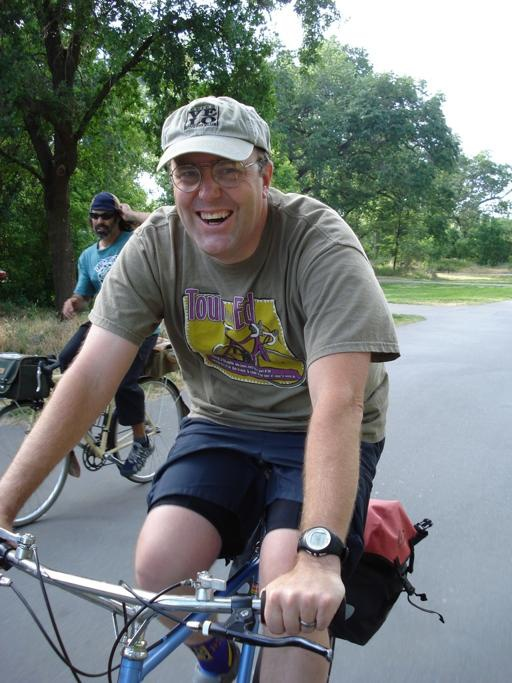non-vehicle: (0, 525, 334, 682), (0, 350, 188, 526)
